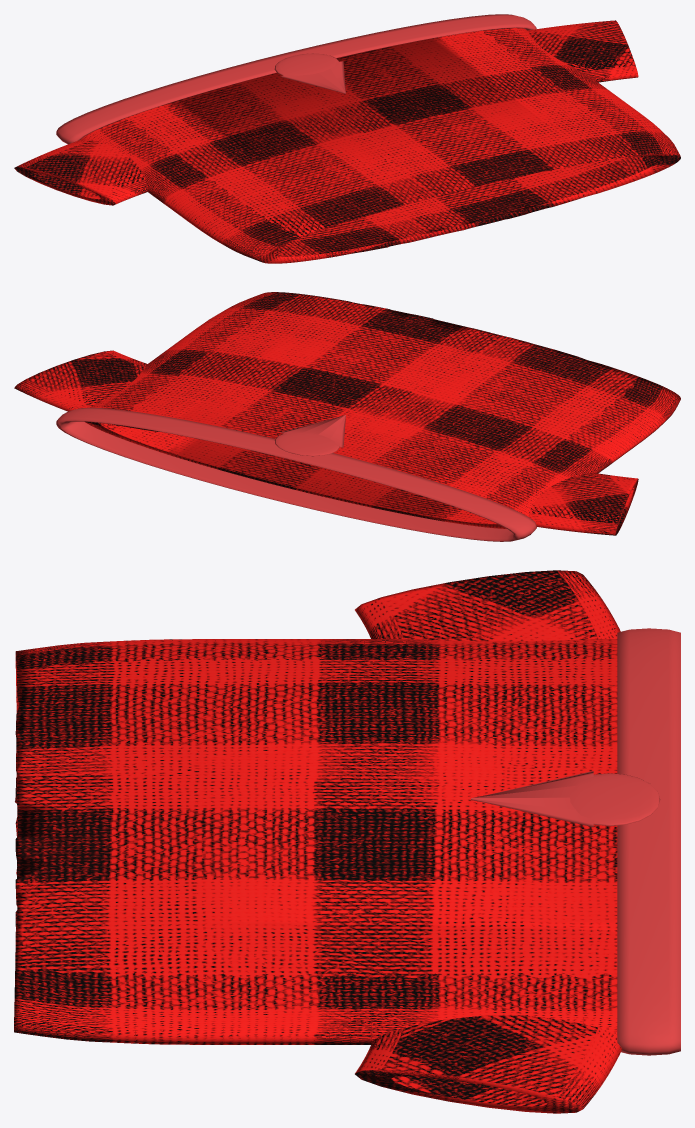
File: farmshirt1.fbx
3 renders of one model, top to bottom at view 1: azimuth 30°, elevation 25°; view 2: azimuth 150°, elevation 25°; view 3: azimuth 270°, elevation 25°, orthographic. The views are drawn at different scales.
Visible parts, largest first — view 1: farmshirt1; view 2: farmshirt1; view 3: farmshirt1.
Part boxes in pixels (x1,y1,x2,y2): farmshirt1: (14, 14, 680, 263); farmshirt1: (14, 292, 680, 541); farmshirt1: (14, 570, 680, 1113).
Bounding box in the file's own units: 1.14 × 0.0865 × 0.5991.
Materials: 2 (1 with a texture image).
